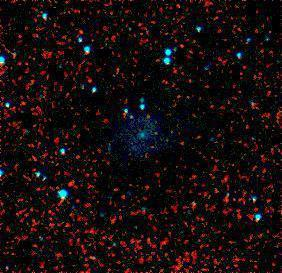star: (168, 30, 198, 60)
